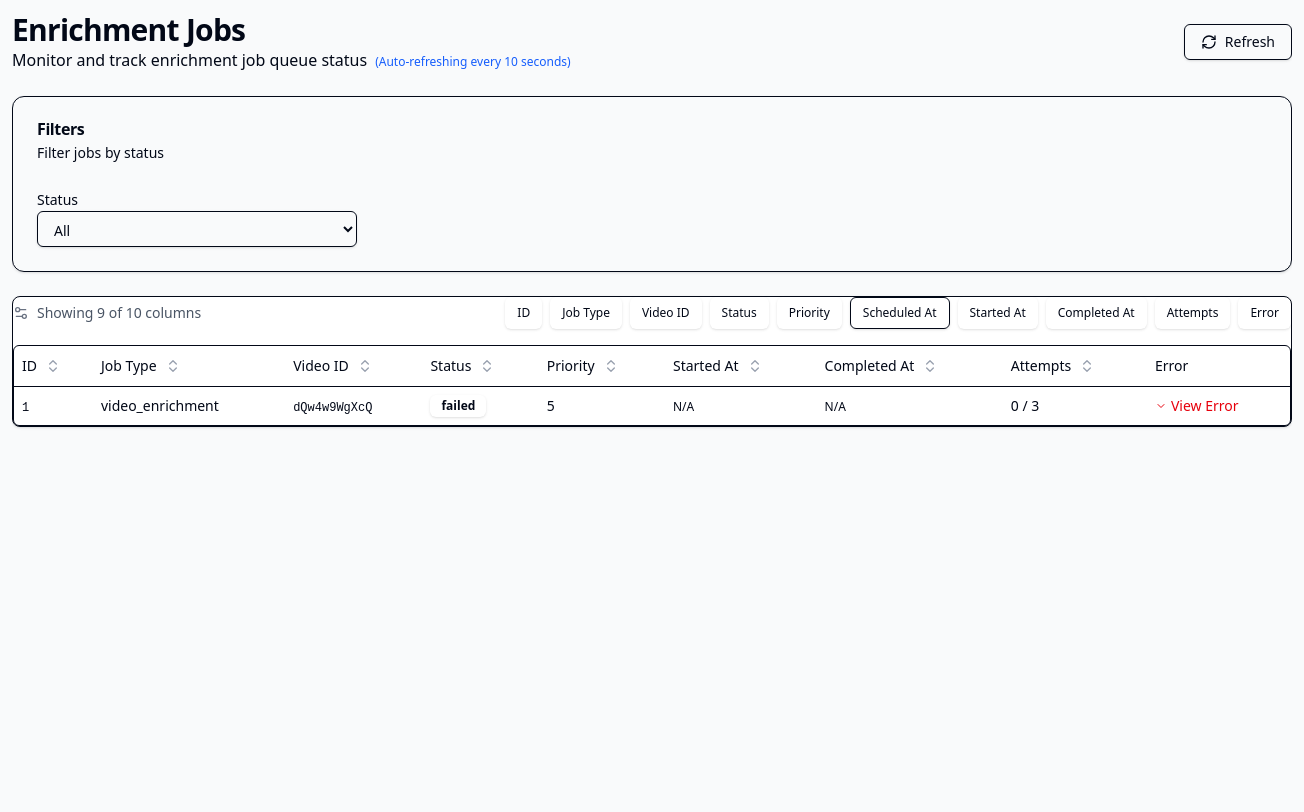
Scenario: Jobs › shows expandable error details for failed jobs
Expected: the text "View Error" is shown, [1171, 396, 1239, 416]
Expected: the text "API quota exceeded" is not shown
Click to expand error details
Click the button "View Error": (1197, 406) [1155, 396, 1239, 416]
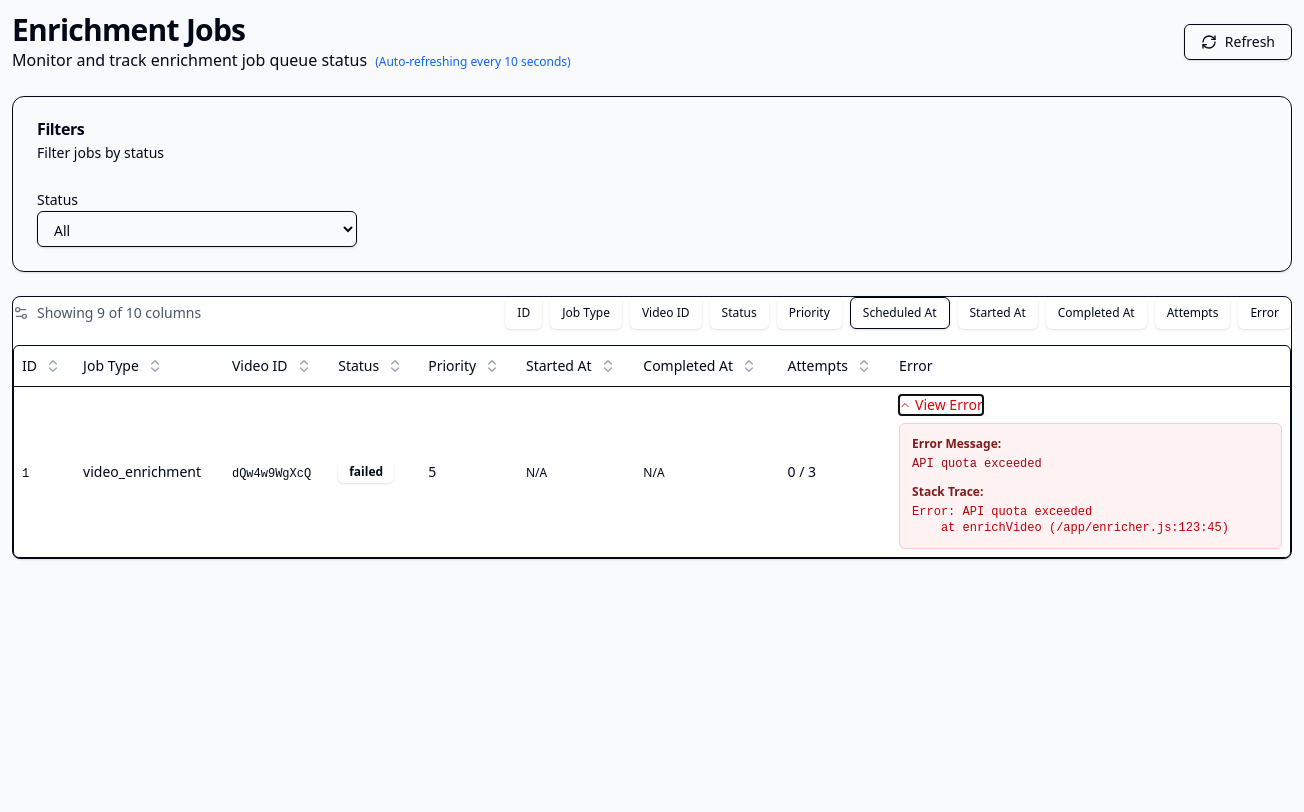
Result: the text "API quota exceeded" is shown at [912, 456, 1042, 470]
Result: the text "Error: API quota exceeded" is shown at [912, 504, 1229, 534]
